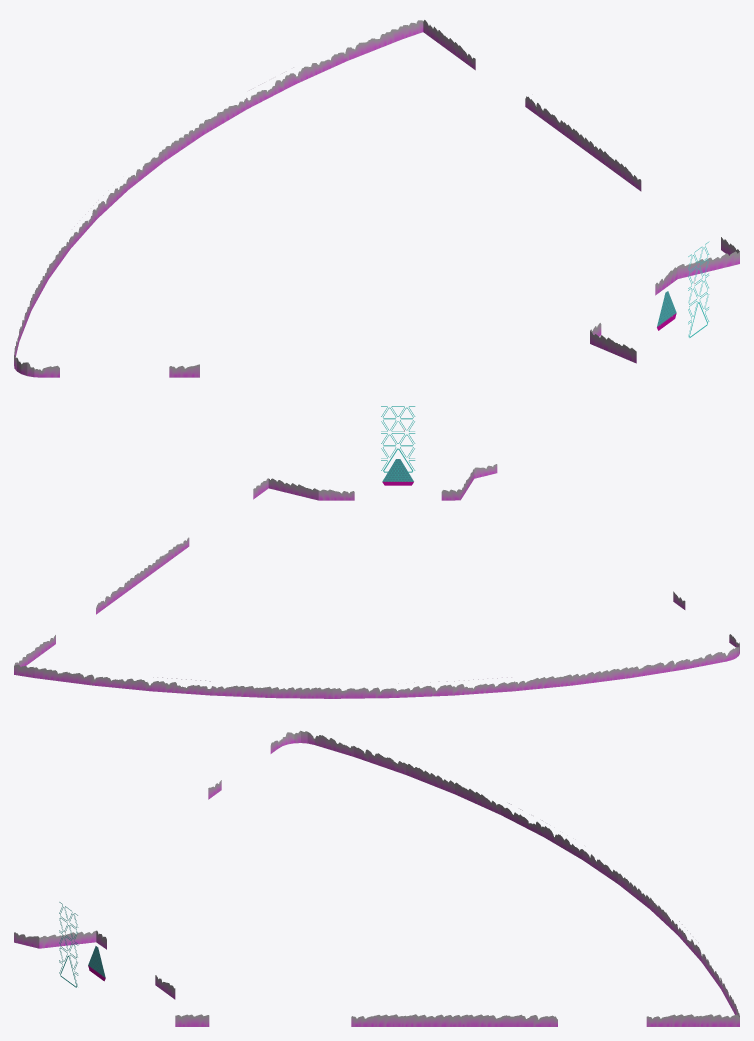
Rendered from XNF_02_UV5.fbx.
3 renders of one model, top to bottom at view 1: azimuth 30°, elevation 25°; view 2: azimuth 150°, elevation 25°; view 3: azimuth 270°, elevation 25°, orthographic. The views are drawn at different scales.
Visible parts, largest first — view 1: XNR_02_UV5; view 2: XNR_02_UV5; view 3: XNR_02_UV5.
Boxes of the visible parts, x1,y1,x2,y2 form: XNR_02_UV5: (14,20,739,377); XNR_02_UV5: (14,406,739,698); XNR_02_UV5: (14,730,739,1026).
Bounding box in the file's own units: 114 × 14.01 × 124.
Materials: 3 (3 with a texture image).
